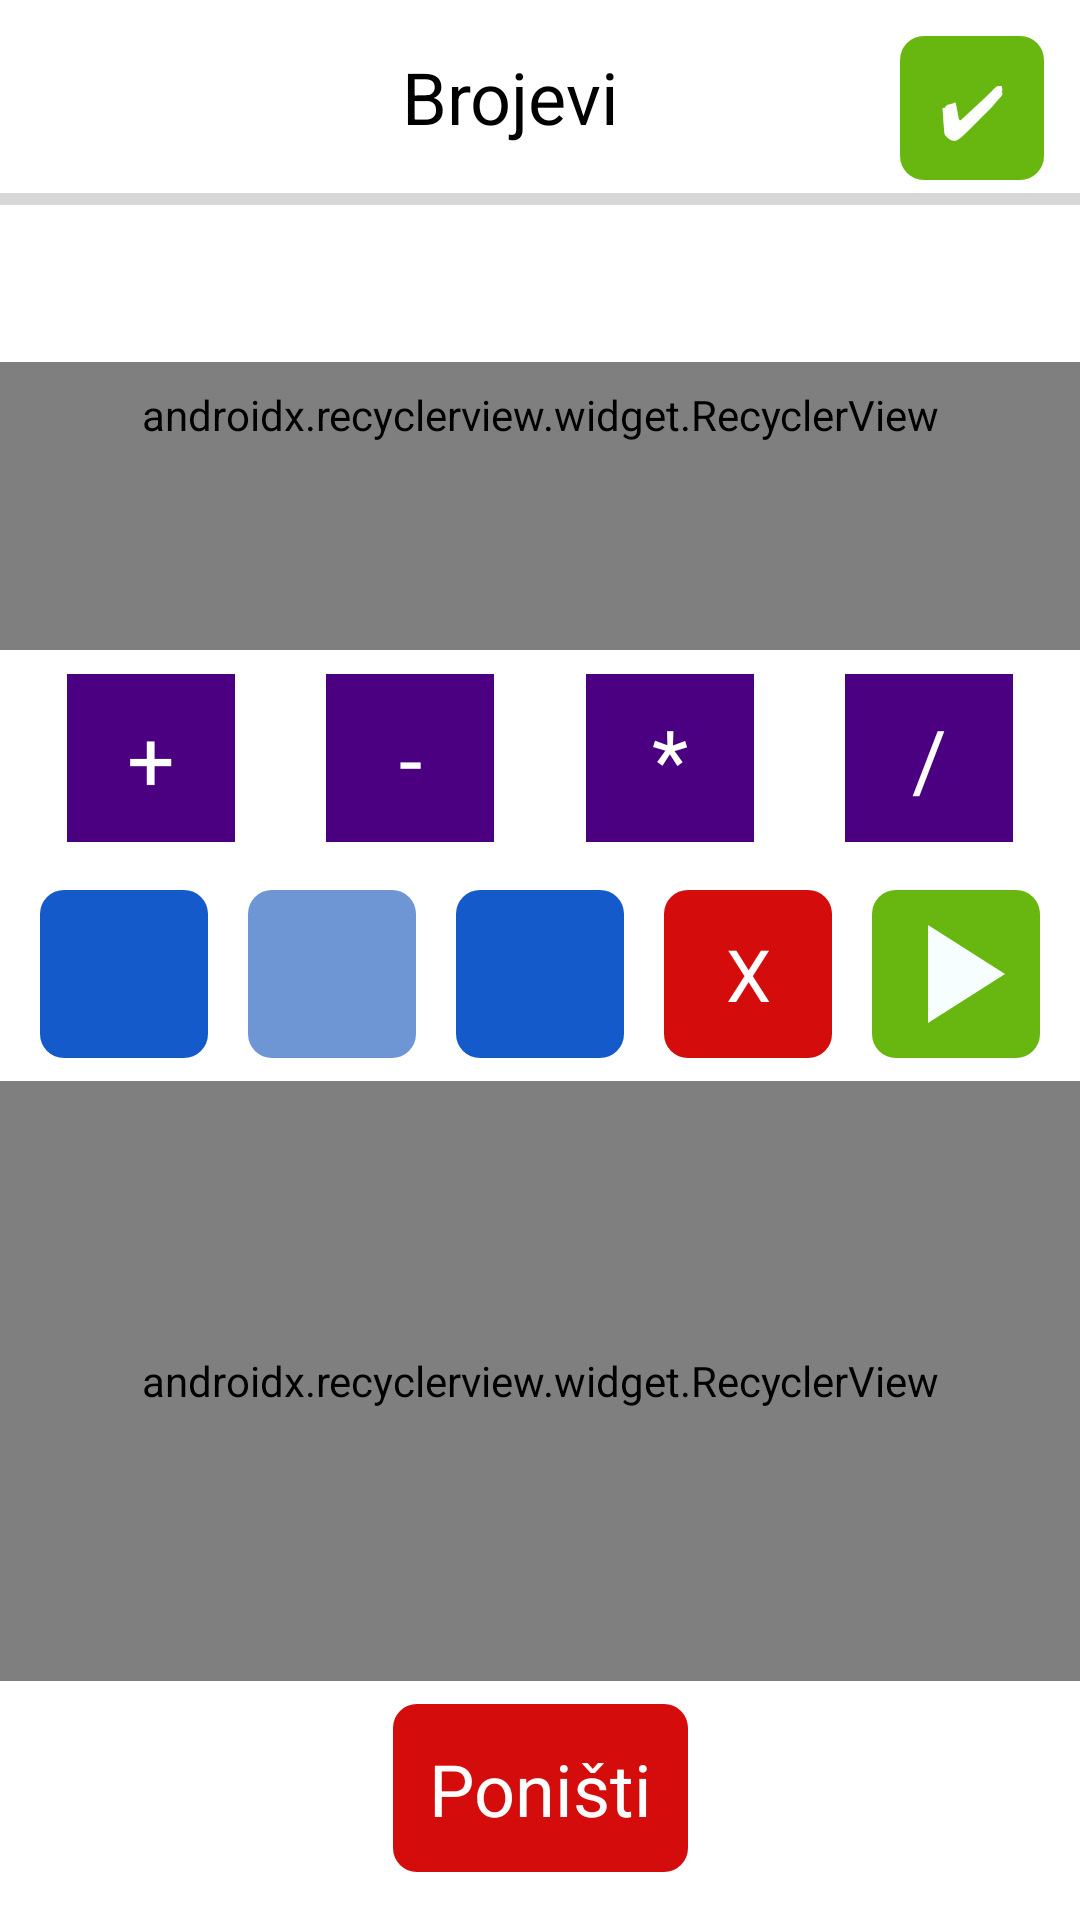

Where to tap for icons on this 1080 × 1920 app screen, as (x,y):
play: (956,974)
